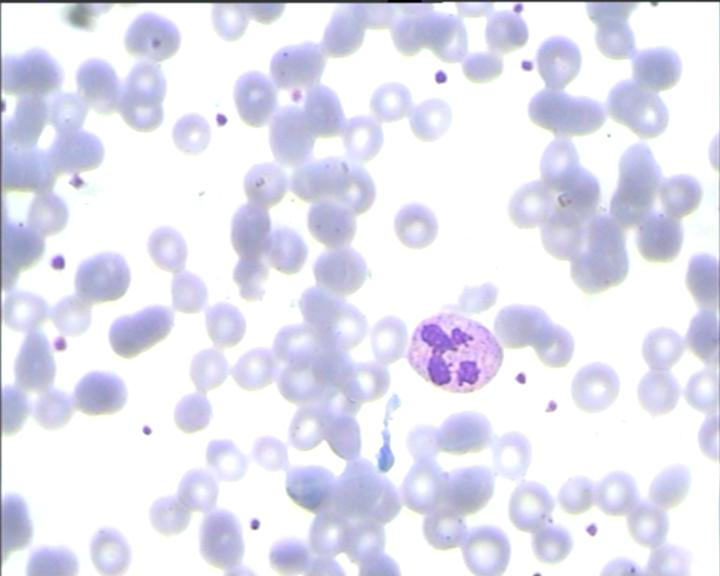neut: (404, 309, 507, 398)
